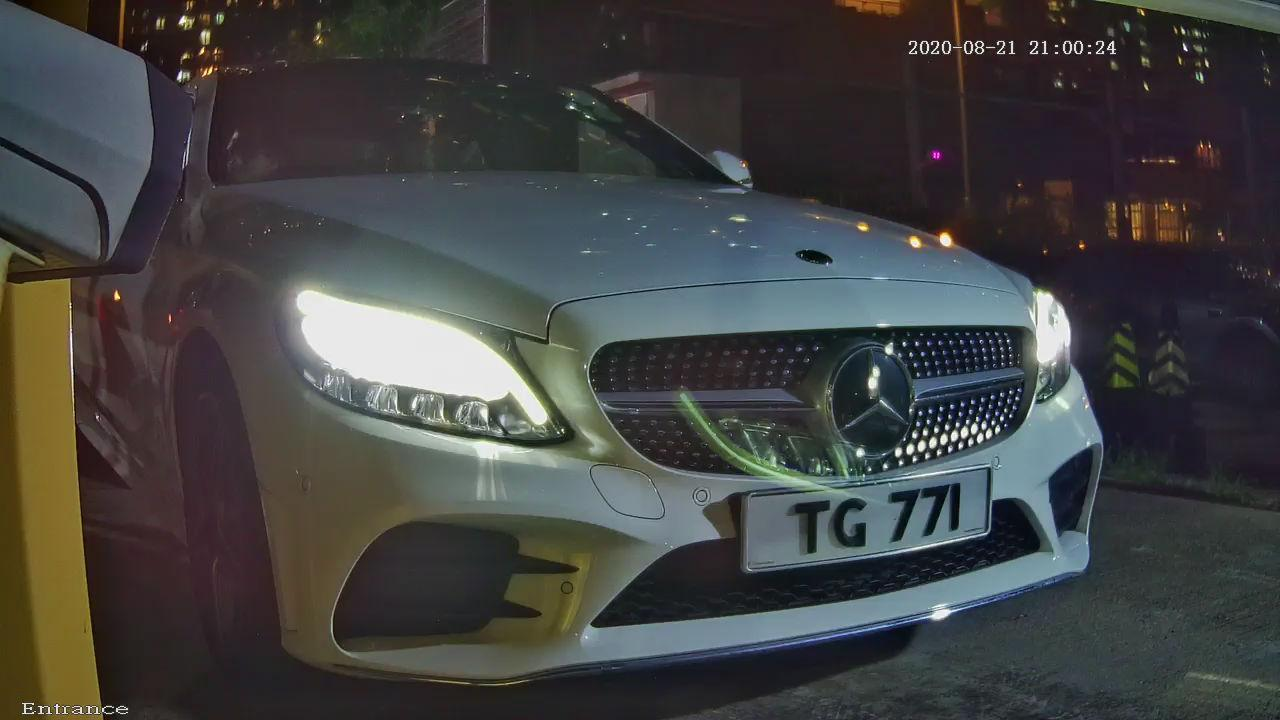Car: (52, 1, 1235, 720)
License Plate: (687, 457, 1023, 608)
